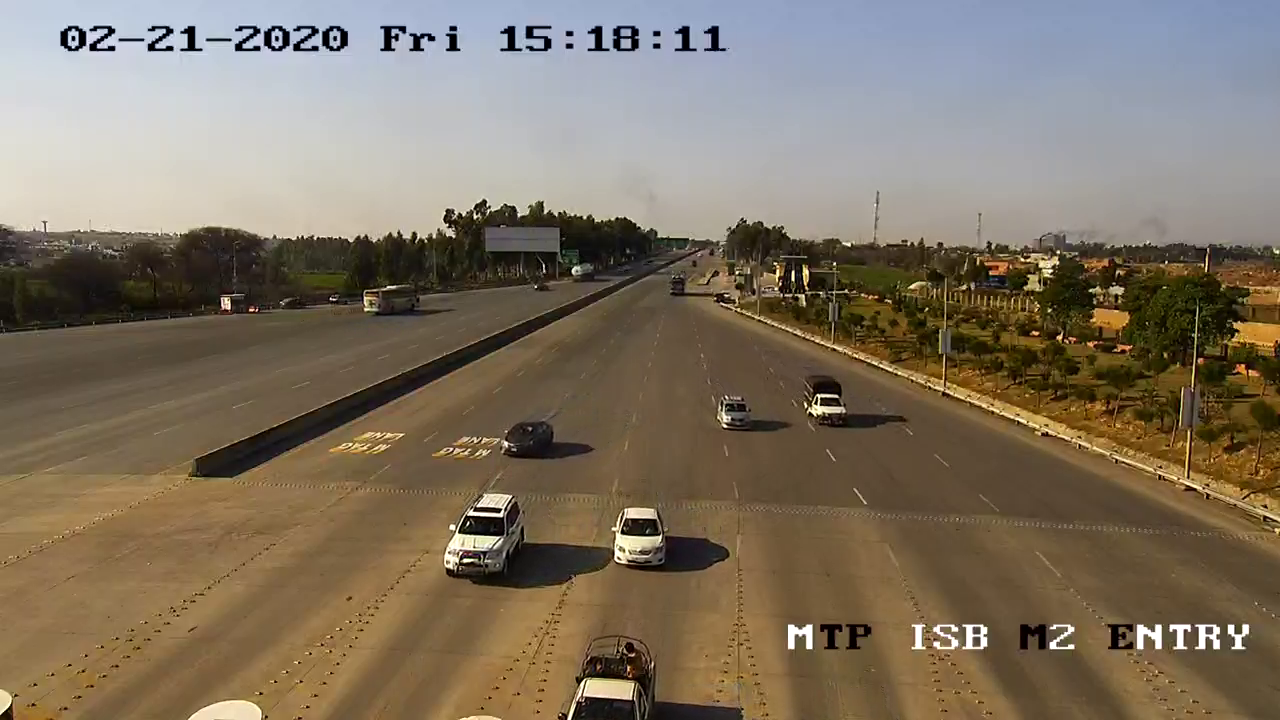f1: (439, 488, 533, 592), (607, 499, 677, 577), (792, 367, 859, 439), (492, 411, 563, 466), (712, 390, 761, 440)
